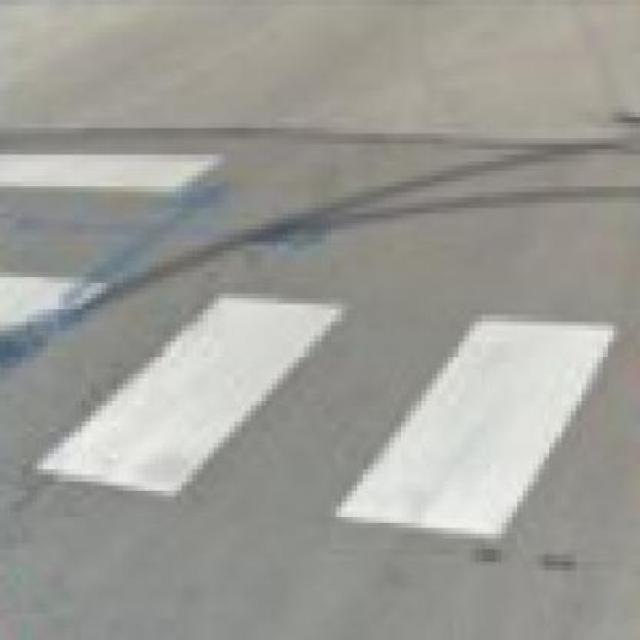crosswalk: (2, 274, 621, 538)
